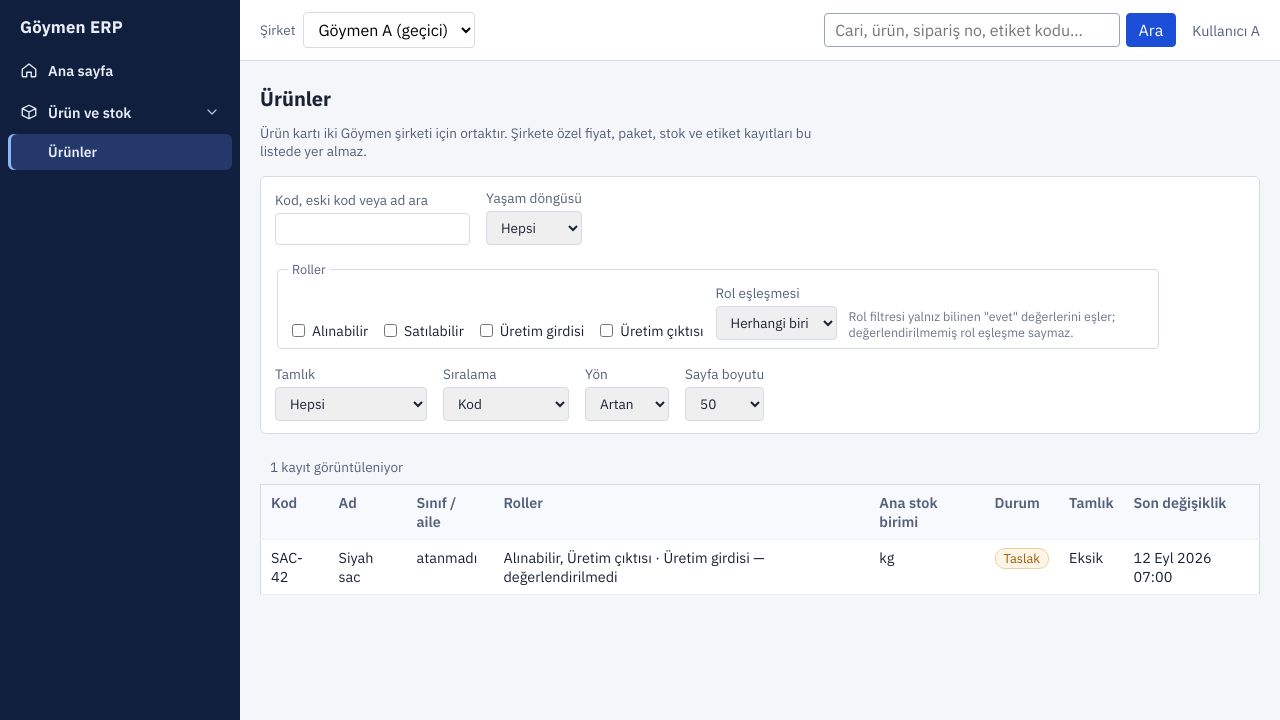
filters › names the active filters so an empty result has a readable cause
The width and height of the screenshot is (1280, 720).
Select "Pasif" in the dropdown labelled "Yaşam döngüsü" at point(534, 228), box [486,211,582,245]
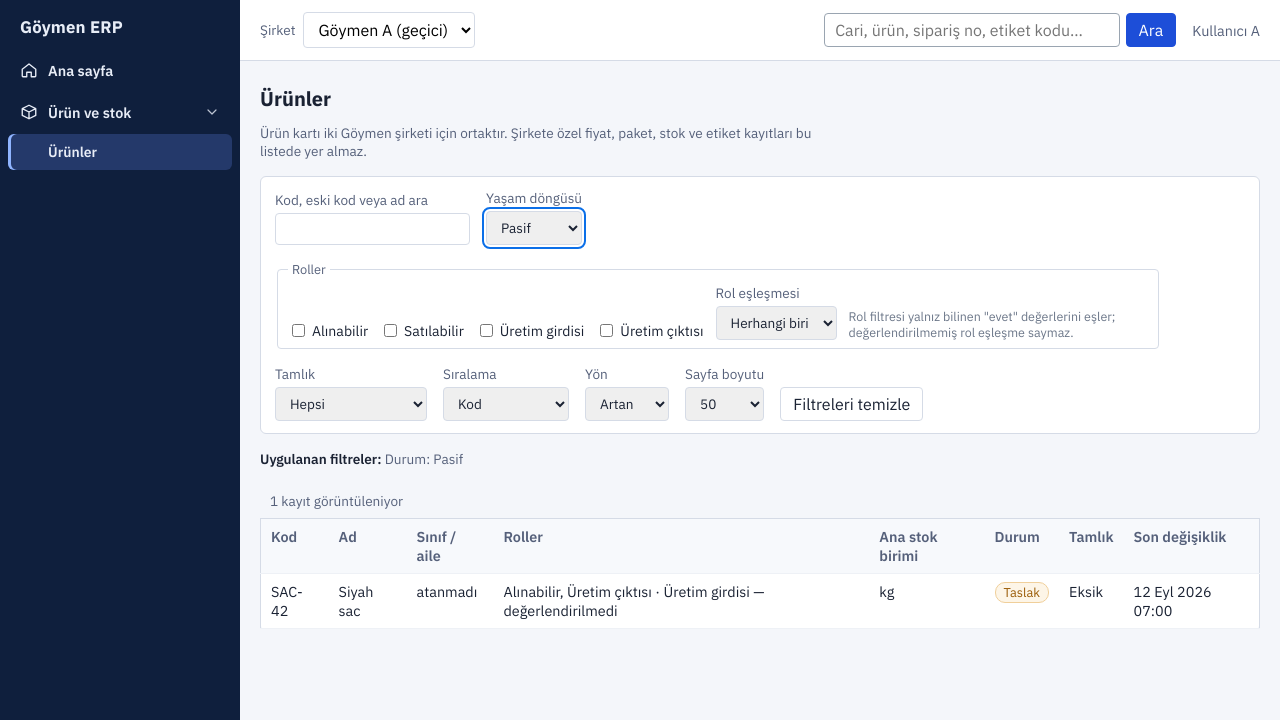
Result: the element with test id "product-active-filters" shows "Durum: Pasif" at [385,450,463,468]
